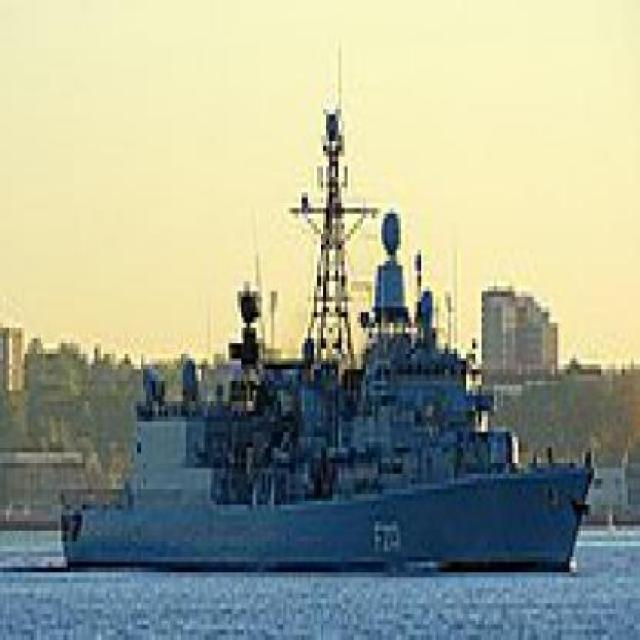warship2: (53, 110, 601, 579)
